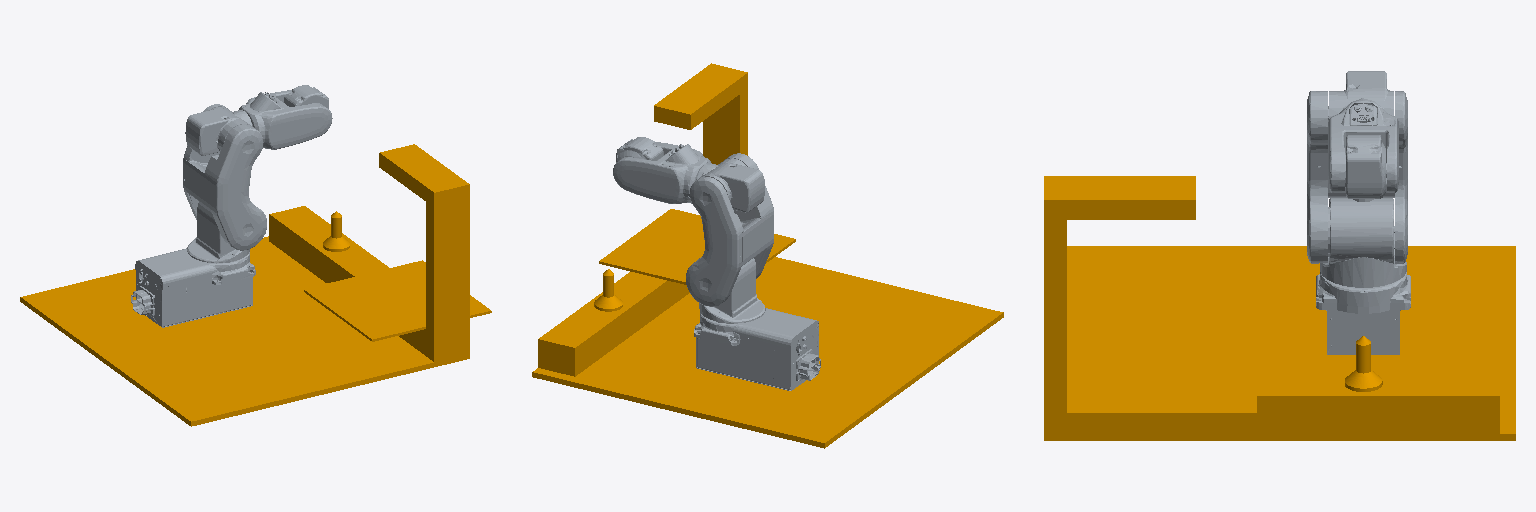
URDF robot description (motoman_motomini):
<?xml version="1.0"?>
<robot name="motoman_motomini">
  <!--Generated by RobotCAD, a ROS
  Workbench for FreeCAD (https://github.com/drfenixion/freecad.robotcad)-->
  <link name="workcell">
    <visual>
      <!--visual_world_/Body.-->
      <origin rpy="0 0 0" xyz="0.0 0.0 0.0" />
      <geometry>
        <mesh filename="package://motomini/meshes/workcell.stl" scale="0.001 0.001 0.001" />
      </geometry>
    </visual>
    <!-- <collision>
      <origin rpy="0 0 0" xyz="0.0 0.0 0.0" />
      <geometry>
        <mesh filename="package://motomini/meshes/workcell.stl" scale="0.001 0.001 0.001"/>
      </geometry>
    </collision> -->

    <inertial>
      <mass value="1.0" />
      <origin xyz="0 0 0" rpy="0 0 0" />
      <inertia ixx="0.01" ixy="0" ixz="0"
        iyy="0.01" iyz="0"
        izz="0.01" />
    </inertial>
  </link>
  <link name="base_link">
    <visual>
      <!--visual_base_link_/base_link_visual.-->
      <origin rpy="0 0 0" xyz="0.0 0.0 0.0" />
      <geometry>
        <mesh filename="package://motomini/meshes/motomini_ws_base_link_stl_xcag4w.dae" />
      </geometry>
    </visual>
    <collision>
      <!--col_base_link_/base_link_collision.-->
      <origin rpy="0 0 0" xyz="0.0 0.0 0.0" />
      <geometry>
        <mesh filename="package://motomini/meshes/motomini_ws_base_link_stl003_aoewun.dae" />
      </geometry>
    </collision>
    <inertial>
      <mass value="0.2957730208625907" />
      <origin rpy="0 0 0" xyz="-0.0414482 0.000680426 -0.00874207" />
      <inertia ixx="0.0006002993385117529" ixy="1.838905003866756e-05" ixz="-0.00013458983394770842"
        iyy="0.0015926668546347553" iyz="5.833475687390483e-06" izz="0.0017336952882501457" />
    </inertial>
  </link>
  <link name="link_1_s">
    <visual>
      <!--visual_link_1_s_/link_1_s_visual.-->
      <origin rpy="0 0 0" xyz="0.0 0.0 0.0" />
      <geometry>
        <mesh filename="package://motomini/meshes/motomini_ws_link_1_s_stl_6j3ein.dae" />
      </geometry>
    </visual>
    <collision>
      <!--col_link_1_s_/link_1_s_collision.-->
      <origin rpy="0 0 0" xyz="0.0 0.0 0.0" />
      <geometry>
        <mesh filename="package://motomini/meshes/motomini_ws_link_1_s_stl003_zj3crt.dae" />
      </geometry>
    </collision>
    <inertial>
      <mass value="0.2702445975347093" />
      <origin rpy="0 0 0" xyz="0.0117154 -0.0180822 -0.0325725" />
      <inertia ixx="0.0006643318166600817" ixy="3.170457948367218e-05" ixz="-9.752049469525281e-05"
        iyy="0.0006007029484641133" iyz="0.00012827517242338014" izz="0.00035835381021736434" />
    </inertial>
  </link>
  <link name="link_2_l">
    <visual>
      <!--visual_link_2_l_/link_2_l_visual.-->
      <origin rpy="1.5707963267948963 0 0" xyz="0.0 0.0 0.0" />
      <geometry>
        <mesh filename="package://motomini/meshes/motomini_ws_link_2_l_stl_ywjtlh.dae" />
      </geometry>
    </visual>
    <collision>
      <!--col_link_2_l_/link_2_l_collision.-->
      <origin rpy="1.5707963267948963 0 0" xyz="0.0 0.0 0.0" />
      <geometry>
        <mesh filename="package://motomini/meshes/motomini_ws_link_2_l_stl003_eufvko.dae" />
      </geometry>
    </collision>
    <inertial>
      <mass value="0.3645826896823147" />
      <origin rpy="1.5707963267948963 0 0" xyz="-0.0156956 -0.0821106 -0.0337352" />
      <inertia ixx="0.0022003462775989032" ixy="4.319294351144581e-05" ixz="-7.19893676187331e-06"
        iyy="0.0017133333321486747" iyz="-4.3796511719310283e-07" izz="0.000985045151194613" />
    </inertial>
  </link>
  <link name="link_3_u">
    <visual>
      <!--visual_link_3_u_/link_3_u_visual.-->
      <origin rpy="-1.5707963267948963 0 0" xyz="0.0 0.0 0.0" />
      <geometry>
        <mesh filename="package://motomini/meshes/motomini_ws_link_3_u_stl_ctpkcv.dae" />
      </geometry>
    </visual>
    <collision>
      <!--col_link_3_u_/link_3_u_collision.-->
      <origin rpy="-1.5707963267948963 0 0" xyz="0.0 0.0 0.0" />
      <geometry>
        <mesh filename="package://motomini/meshes/motomini_ws_link_3_u_stl003_8rwhjh.dae" />
      </geometry>
    </collision>
    <inertial>
      <mass value="0.06604462857575186" />
      <origin rpy="-1.5707963267948963 0 0" xyz="-0.0201924 0.00307167 0.00747611" />
      <inertia ixx="9.024297182188324e-05" ixy="1.5062846502783997e-05" ixz="5.527414281744643e-06"
        iyy="0.00011008351228415944" iyz="-2.08099229137512e-06" izz="0.00011641933903730871" />
    </inertial>
  </link>
  <link name="link_4_r">
    <visual>
      <!--visual_link_4_r_/link_4_r_visual.-->
      <origin rpy="0 1.5707963267948963 0" xyz="0.0 0.0 0.0" />
      <geometry>
        <mesh filename="package://motomini/meshes/motomini_ws_link_4_r_stl_uyj2fm.dae" />
      </geometry>
    </visual>
    <collision>
      <!--col_link_4_r_/link_4_r_collision.-->
      <origin rpy="0 1.5707963267948963 0" xyz="0.0 0.0 0.0" />
      <geometry>
        <mesh filename="package://motomini/meshes/motomini_ws_link_4_r_stl003_hecj6j.dae" />
      </geometry>
    </collision>
    <inertial>
      <mass value="0.1515950382190257" />
      <origin rpy="0 1.5707963267948963 0" xyz="0.00176097 -0.00433646 0.0689076" />
      <inertia ixx="0.0002244294991985835" ixy="-2.486252165081103e-05" ixz="4.258142439233098e-06"
        iyy="0.0003795137970997391" iyz="-1.2479435307808937e-06" izz="0.00044070388252848093" />
    </inertial>
  </link>
  <link name="link_5_b">
    <visual>
      <!--visual_link_5_b_/link_5_b_visual.-->
      <origin rpy="-1.5707963267948963 0 0" xyz="0.0 0.0 0.0" />
      <geometry>
        <mesh filename="package://motomini/meshes/motomini_ws_link_5_b_stl_ua8fpz.dae" />
      </geometry>
    </visual>
    <collision>
      <!--col_link_5_b_/link_5_b_collision.-->
      <origin rpy="-1.5707963267948963 0 0" xyz="0.0 0.0 0.0" />
      <geometry>
        <mesh filename="package://motomini/meshes/motomini_ws_link_5_b_stl003_o97hcc.dae" />
      </geometry>
    </collision>
    <inertial>
      <mass value="0.06591984342973066" />
      <origin rpy="-1.5707963267948963 0 0" xyz="-0.000826461 0.00149217 -0.000326558" />
      <inertia ixx="5.8054972443508276e-05" ixy="4.639714220595164e-07" ixz="-9.053608175882721e-07"
        iyy="6.295802222323531e-05" iyz="-1.511995758590539e-07" izz="5.283862172663218e-05" />
    </inertial>
  </link>
  <link name="link_6_t">
    <visual>
      <!--visual_link_6_t_/link_6_t_visual.-->
      <origin rpy="0 0 0" xyz="0.0 0.0 0.0" />
      <geometry>
        <mesh filename="package://motomini/meshes/motomini_ws_link_6_t_stl_m29b2l.dae" />
      </geometry>
    </visual>
    <collision>
      <!--col_link_6_t_/link_6_t_collision.-->
      <origin rpy="0 0 0" xyz="0.0 0.0 0.0" />
      <geometry>
        <mesh filename="package://motomini/meshes/motomini_ws_link_6_t_stl003_onpr9a.dae" />
      </geometry>
    </collision>
    <inertial>
      <mass value="0.01309057837623762" />
      <origin rpy="0 0 0" xyz="0.0 0.0 -0.0299851" />
      <inertia ixx="1.132968895272913e-06" ixy="-5.878942424433416e-11" ixz="4.499033128730112e-10"
        iyy="1.1328302839738658e-06" iyz="6.331380453074025e-11" izz="1.5026821447063523e-06" />
    </inertial>
  </link>
  <link name="tool0" />
  <link name="base" />
  <joint name="workcell_joint" type="fixed">
    <parent link="workcell" />
    <child link="base_link" />
    <origin rpy="0 0 0" xyz="0.0 0.0 0.01" />
  </joint>
  <joint name="joint_1_s" type="revolute">
    <parent link="base_link" />
    <child link="link_1_s" />
    <origin rpy="0 0 0" xyz="0.0 0.0 0.103" />
    <axis xyz="0 0 1" />
    <limit lower="-2.9670" upper="2.9670" effort="0.12" velocity="5.4977" />
  </joint>
  <joint name="joint_2_l" type="revolute">
    <parent link="link_1_s" />
    <child link="link_2_l" />
    <origin rpy="-1.5707963267948963 0 0" xyz="0.02 0.0 0.0" />
    <axis xyz="0 0 1" />
    <limit lower="-1.4835" upper="1.5707" effort="0.12" velocity="5.4977" />
  </joint>
  <joint name="joint_3_u" type="revolute">
    <parent link="link_2_l" />
    <child link="link_3_u" />
    <origin rpy="3.1415926535897927 0 0" xyz="0.0 -0.165 0.0" />
    <axis xyz="0 0 1" />
    <limit lower="-0.8726" upper="1.5707" effort="0.12" velocity="7.3304" />
  </joint>
  <joint name="joint_4_r" type="revolute">
    <parent link="link_3_u" />
    <child link="link_4_r" />
    <origin rpy="-1.570796326794897 0 1.5707963267948966" xyz="0.165 0.0 0.0" />
    <axis xyz="0 0 1" />
    <limit lower="-2.4434" upper="2.4434" effort="0.07" velocity="10.4719" />
  </joint>
  <joint name="joint_5_b" type="revolute">
    <parent link="link_4_r" />
    <child link="link_5_b" />
    <origin rpy="1.5707963267948966 1.5707963267948966 0" xyz="0.0 0.0 0.0" />
    <axis xyz="0 0 1" />
    <limit lower="-0.5235" upper="3.6651" effort="0.07" velocity="10.4719" />
  </joint>
  <joint name="joint_6_t" type="revolute">
    <parent link="link_5_b" />
    <child link="link_6_t" />
    <origin rpy="-1.5707963267948963 0 0" xyz="0.0 0.0 0.0" />
    <axis xyz="0 0 1" />
    <limit lower="-6.2831" upper="6.2831" effort="0.07" velocity="10.4719" />
  </joint>
  <joint name="joint_6_t-tool0" type="fixed">
    <parent link="link_6_t" />
    <child link="tool0" />
    <origin rpy="3.1415926499999998 0 0" xyz="0.0 0.0 -0.04" />
  </joint>
  <joint name="base_link-base" type="fixed">
    <parent link="base_link" />
    <child link="base" />
    <origin rpy="0 0 0" xyz="0.0 0.0 0.103" />
  </joint>
</robot>

--- Facts derived from the render (not from the file) ---
Views: 3 orthographic renders of the robot side by side, from view 1: azimuth 30°, elevation 25°; view 2: azimuth 150°, elevation 25°; view 3: azimuth 270°, elevation 25°.
Robot: motoman_motomini — 10 links, 9 joints (6 revolute, 3 fixed); root link workcell; default pose: all joints at 0.
Links seen in each view (by area): view 1: workcell, base_link, link_2_l, link_4_r, link_3_u, link_1_s, link_5_b; view 2: workcell, base_link, link_2_l, link_4_r, link_3_u, link_1_s, link_5_b; view 3: workcell, link_1_s, link_2_l, base_link, link_4_r, link_5_b, link_3_u.
Link boxes in pixels (<box>): workcell: <box>20,144,491,426</box>; base_link: <box>131,248,255,327</box>; link_2_l: <box>183,104,266,250</box>; link_4_r: <box>239,90,332,149</box>; link_3_u: <box>185,107,252,155</box>; link_1_s: <box>187,202,253,263</box>; link_5_b: <box>284,85,328,108</box>; workcell: <box>532,63,1003,448</box>; base_link: <box>694,308,820,390</box>; link_2_l: <box>686,153,773,306</box>; link_4_r: <box>613,142,710,203</box>; link_3_u: <box>696,158,764,212</box>; link_1_s: <box>697,257,765,323</box>; link_5_b: <box>616,137,663,161</box>; workcell: <box>1044,176,1515,440</box>; link_1_s: <box>1320,198,1406,287</box>; link_2_l: <box>1307,91,1407,263</box>; base_link: <box>1316,226,1410,354</box>; link_4_r: <box>1328,101,1398,192</box>; link_5_b: <box>1345,135,1385,198</box>; link_3_u: <box>1329,71,1393,125</box>.
Bounding box of the posed robot: 0.648 × 0.62 × 0.4053 m (x, y, z).
Meshes: 8 distinct files referenced, 8 mesh visuals loaded (1 binary STL, 7 Collada DAE).
